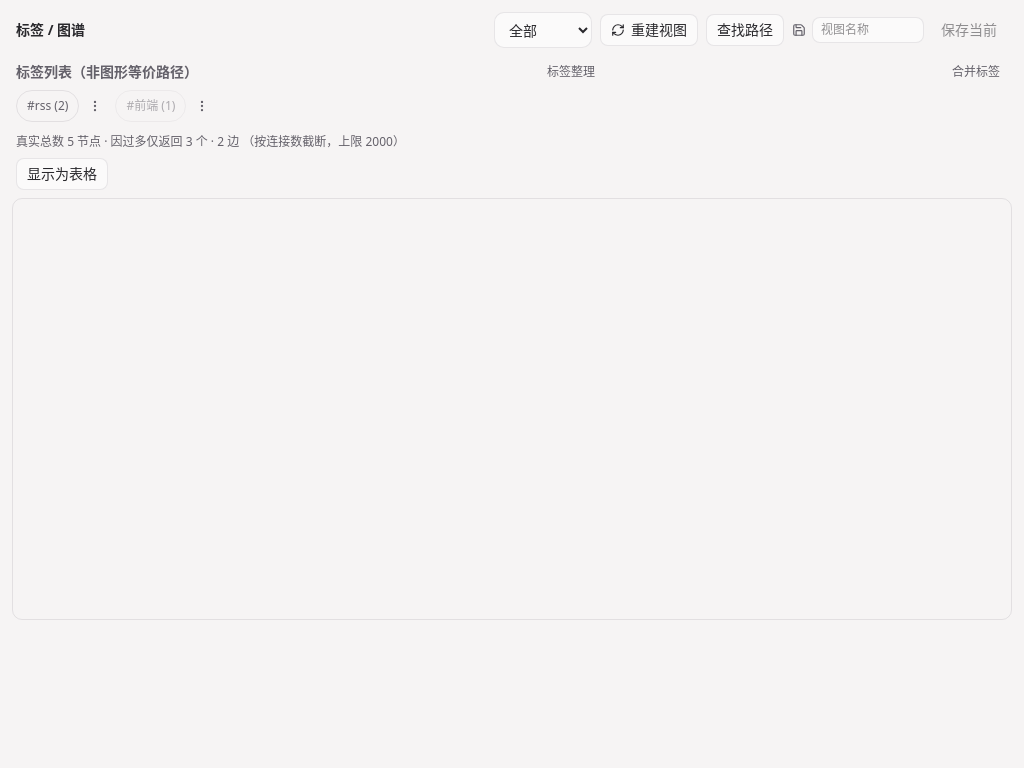
Test: GraphPage › 摘要行 + truncated 截断提示；显示为表格 → 语义 table 列出节点
expect the text "真实总数 5 节点 · 因过多仅返回 3 个 · 2 边 （按连接数截断，上限 2000）" is shown: met, box x1=16 y1=133 x2=405 y2=150
Click the button "显示为表格".
click(62, 174)  # box x1=16 y1=158 x2=108 y2=190
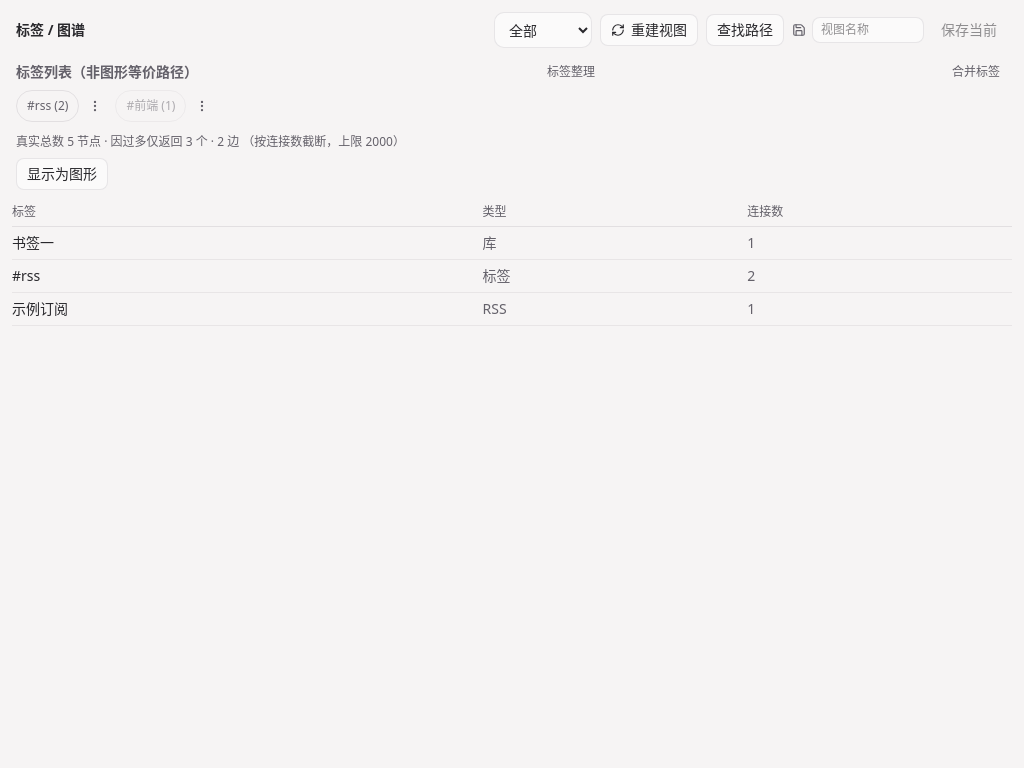
expect the text "书签一" is shown: met, box x1=12 y1=227 x2=482 y2=260
expect the text "#rss" is shown: met, box x1=12 y1=260 x2=482 y2=292
expect the text "示例订阅" is shown: met, box x1=12 y1=292 x2=482 y2=326
